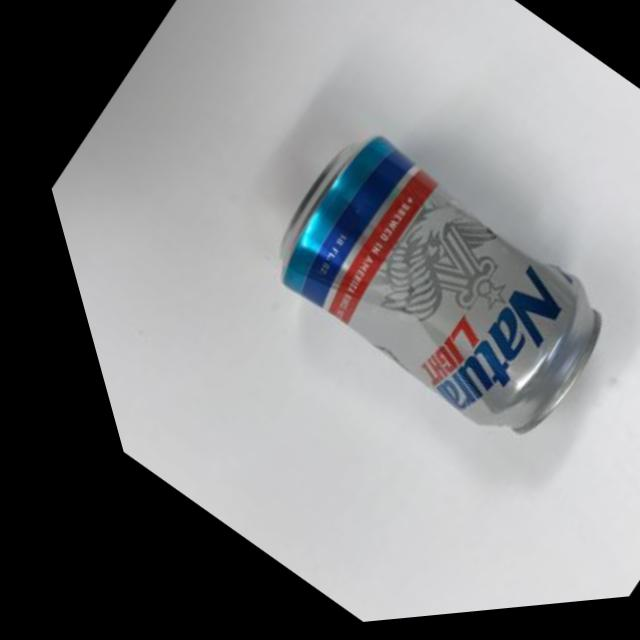metal: (155, 66, 640, 543)
